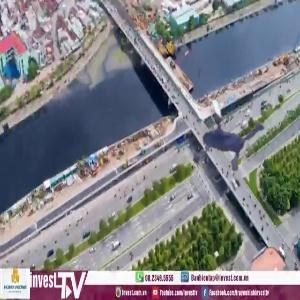drone: (163, 63, 287, 187)
